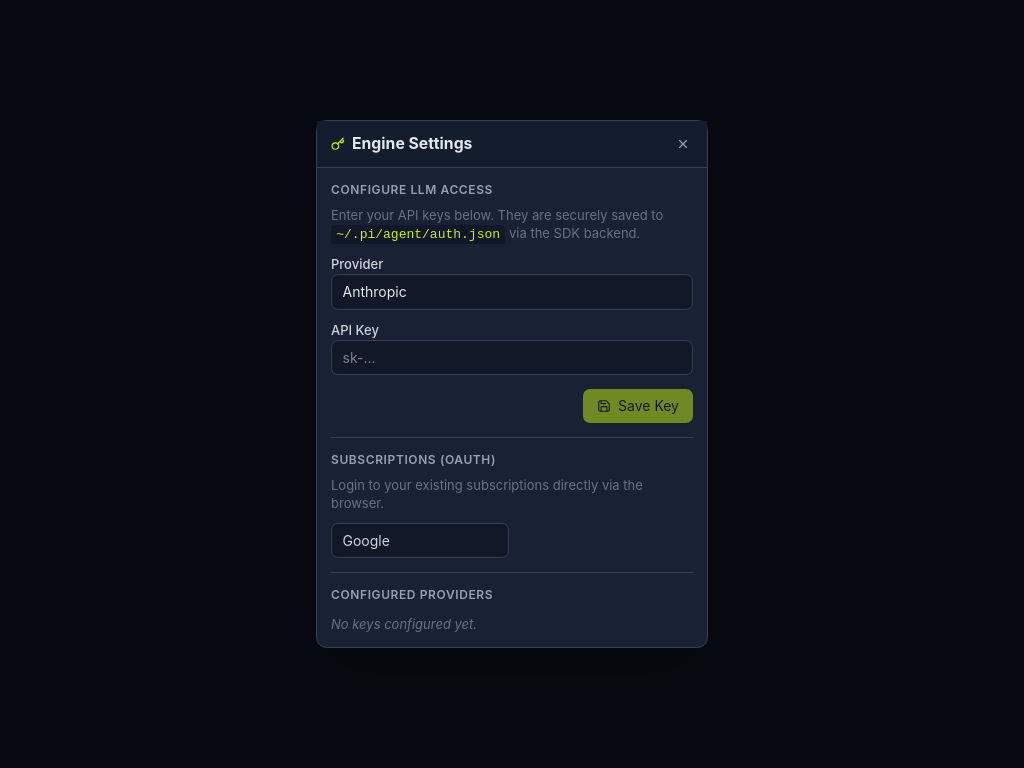
Test case: SettingsModal › OAuth button is disabled while a flow is in progress
Click the button "Google": click(420, 540) x1=331 y1=523 x2=508 y2=558
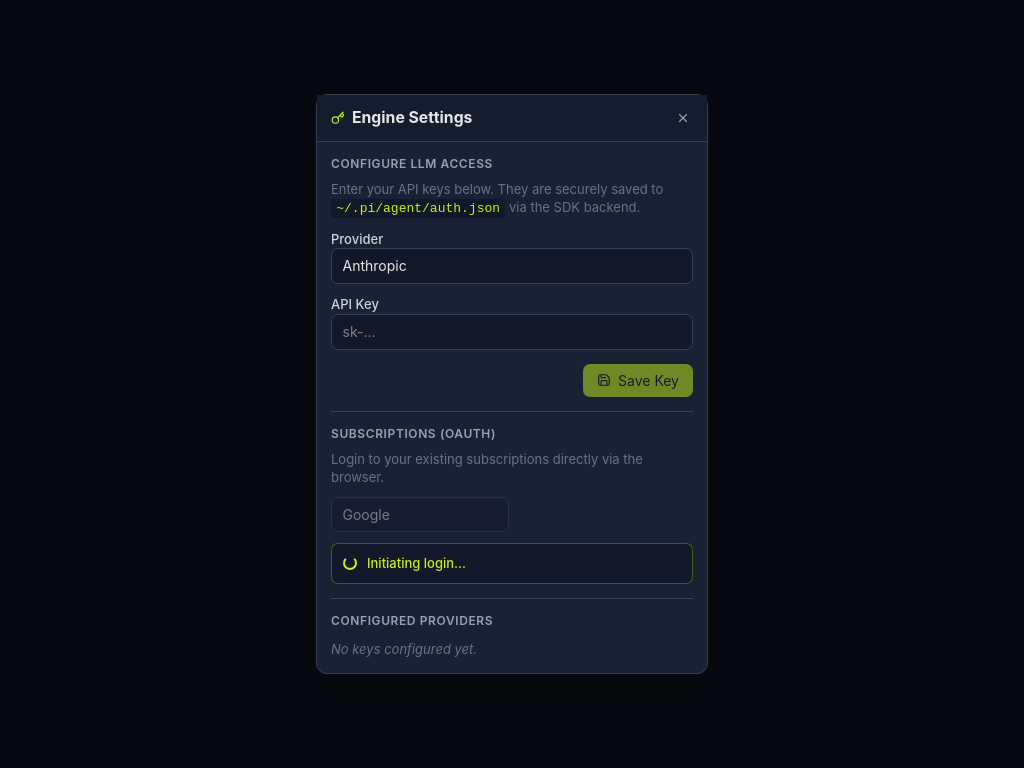
Expected: the button "Google" is disabled, x1=331 y1=497 x2=508 y2=532
